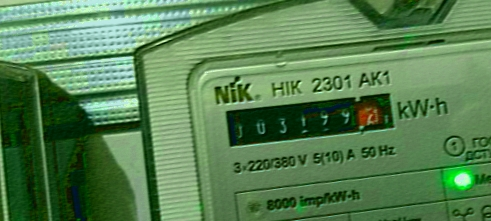0: (230, 119, 245, 142), (253, 116, 268, 137)
1: (296, 109, 309, 130)
3: (275, 115, 289, 136)
6: (364, 111, 377, 128)
9: (317, 107, 331, 128), (338, 106, 352, 126)
screen: (217, 81, 405, 162)
